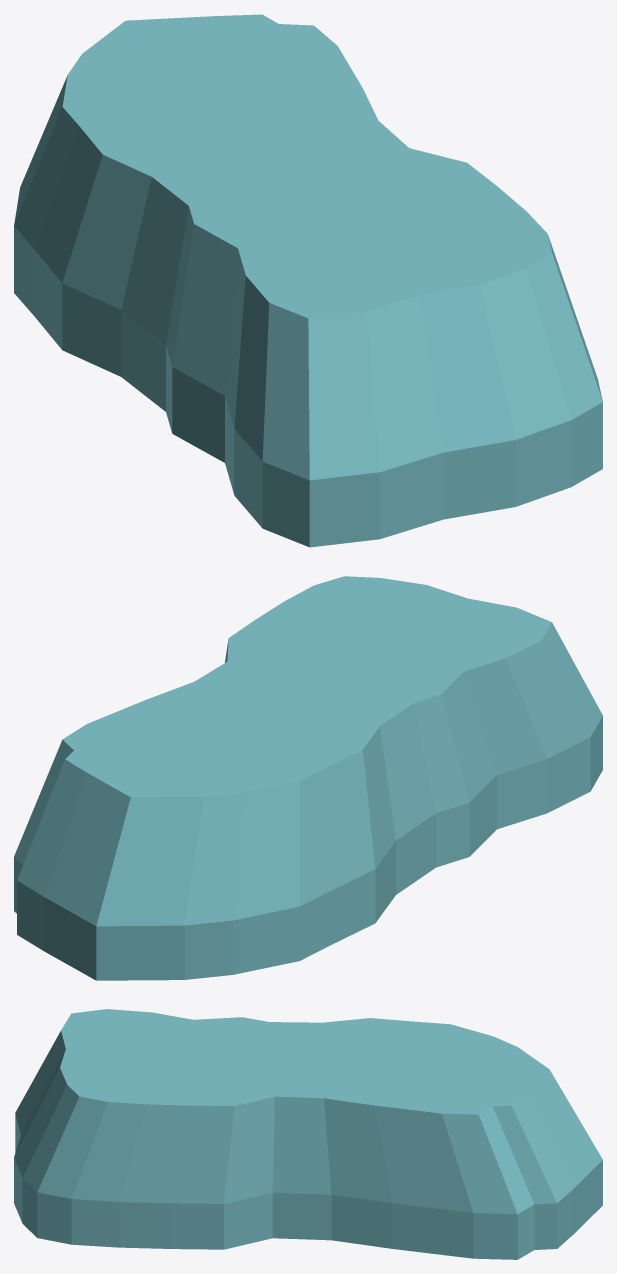
The model's file is BlueObstacle2.fbx.
3 views of the same model, one above another, from view 1: azimuth 30°, elevation 25°; view 2: azimuth 150°, elevation 25°; view 3: azimuth 270°, elevation 25° (orthographic). The views are drawn at different scales.
Parts seen in each view (by area): view 1: BlueObstacle2; view 2: BlueObstacle2; view 3: BlueObstacle2.
Part boxes in pixels (<box>): BlueObstacle2: <box>14,14,602,547</box>; BlueObstacle2: <box>14,576,602,980</box>; BlueObstacle2: <box>14,1009,602,1259</box>.
Size of the model in its own units: 2.96 by 1.47 by 5.8.
